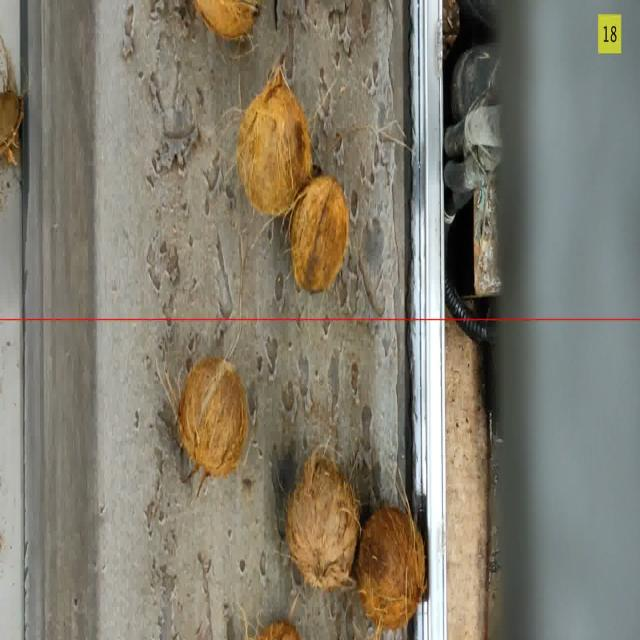Coconut-Conveyor-Belt: (237, 64, 311, 209), (288, 457, 357, 587), (180, 356, 249, 484), (362, 501, 424, 639), (291, 176, 348, 294), (190, 2, 262, 37)
